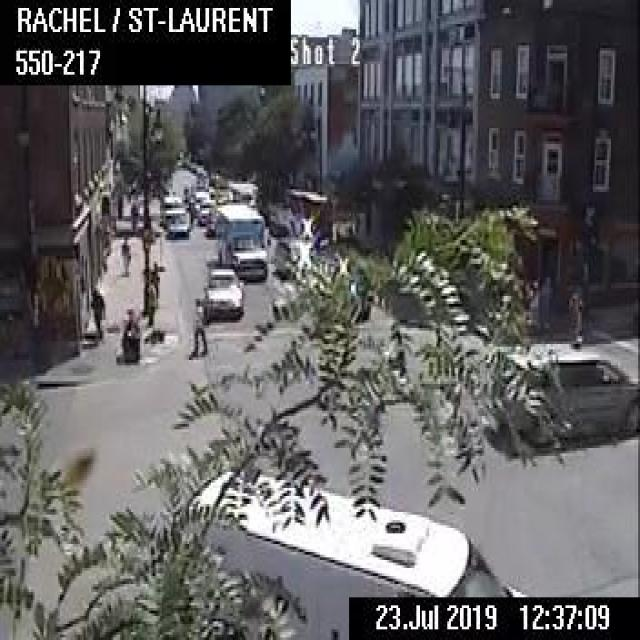bus: (213, 202, 268, 282)
pedestrian: (186, 294, 206, 358), (565, 277, 582, 336), (89, 283, 104, 336), (118, 227, 133, 274), (149, 253, 160, 299)
vehicle: (181, 466, 529, 637), (490, 349, 638, 448), (203, 268, 242, 320), (274, 235, 313, 278), (160, 195, 184, 218), (196, 198, 218, 223), (167, 213, 189, 236), (206, 211, 217, 233)
